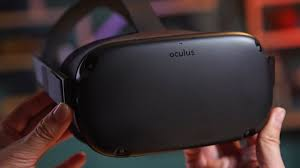oculus: (62, 30, 279, 159)
